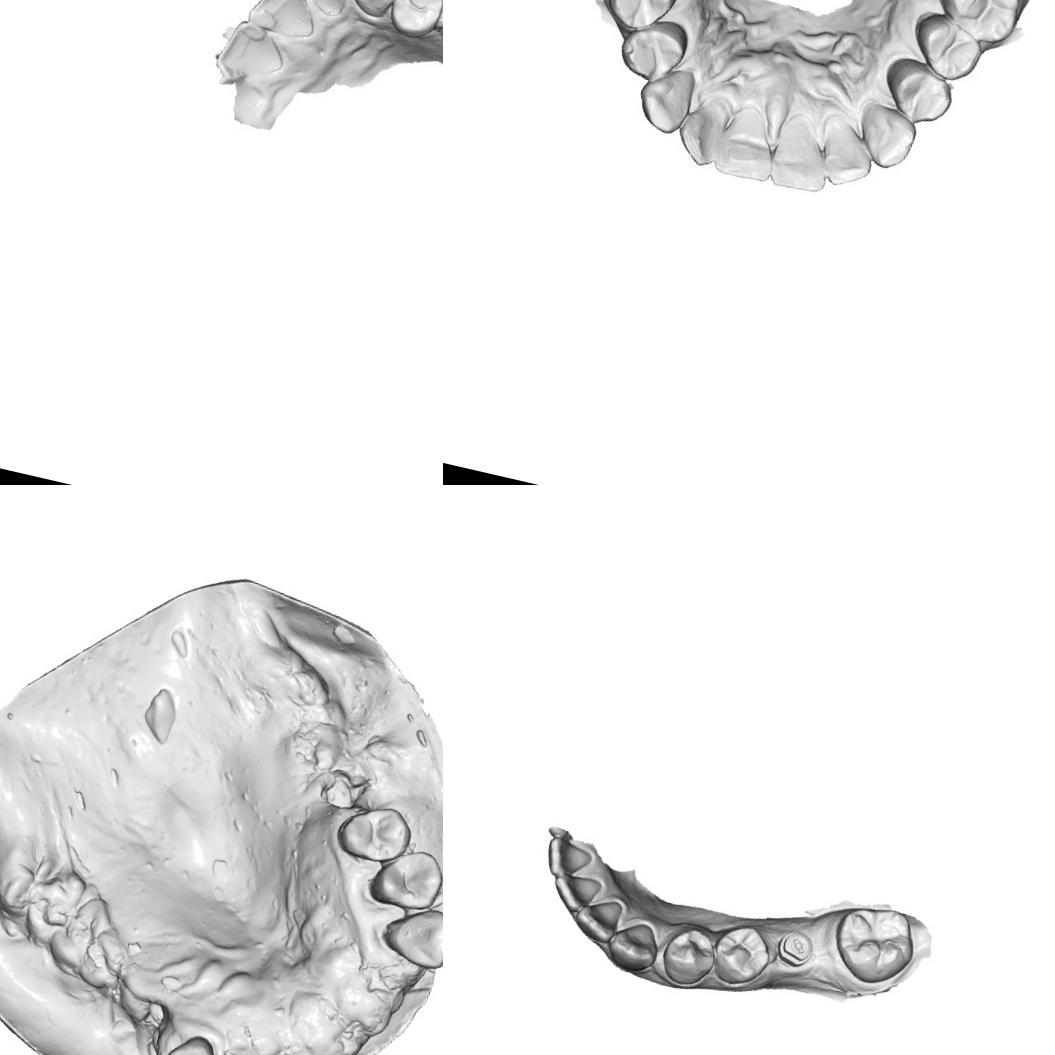canine: (853, 102, 922, 176), (377, 898, 443, 974), (634, 68, 696, 136), (603, 916, 664, 978), (150, 1024, 226, 1055), (334, 0, 402, 26)
implant_minus: (774, 926, 818, 972)
incisor: (668, 90, 738, 173), (716, 106, 783, 182), (772, 115, 836, 192), (815, 115, 878, 193), (213, 21, 288, 85), (247, 0, 322, 46), (570, 892, 624, 947), (547, 868, 603, 920), (541, 834, 596, 884), (284, 0, 358, 25)
molar: (823, 895, 924, 993), (925, 0, 1030, 51)
premolar: (903, 9, 989, 88), (362, 837, 443, 919), (333, 795, 417, 870), (614, 11, 691, 90), (881, 56, 957, 132), (706, 917, 776, 994), (656, 922, 722, 991), (595, 0, 681, 42), (385, 0, 443, 39)
